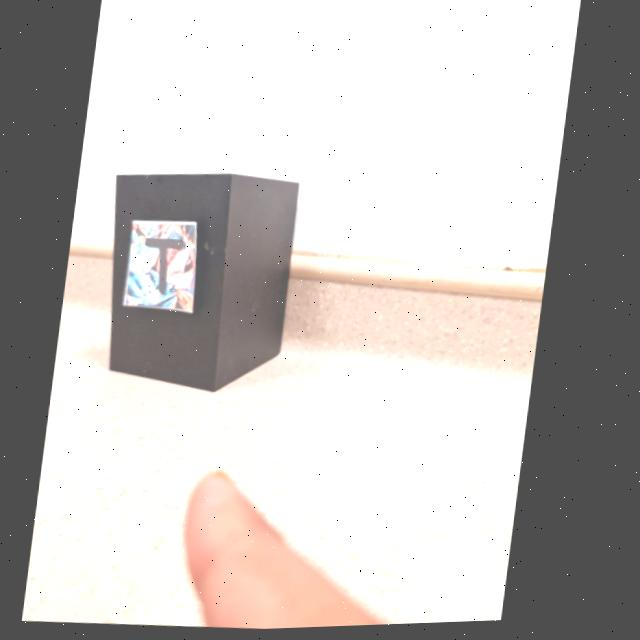T: (148, 240, 187, 294)
